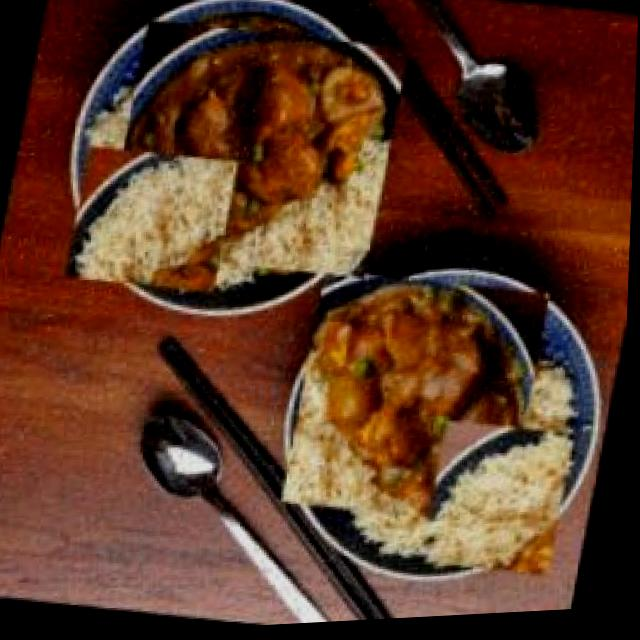curry: (111, 1, 404, 298), (282, 265, 555, 541)
rice: (69, 135, 237, 305), (422, 419, 580, 588)
